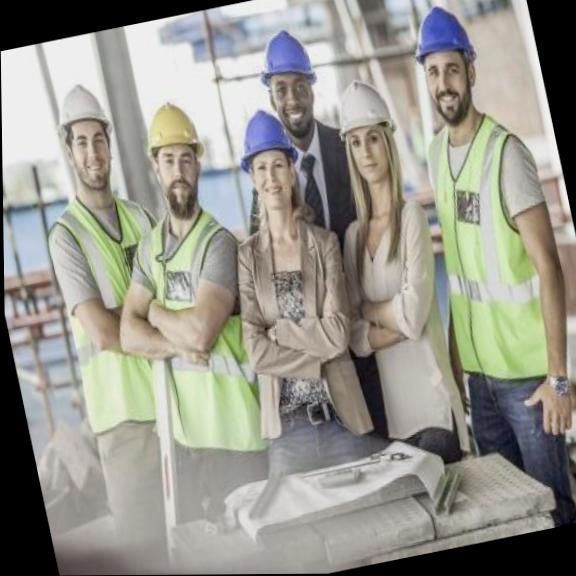no_safety_vest: (236, 212, 365, 439), (341, 195, 459, 426)
safety_vest: (119, 217, 265, 462), (422, 127, 557, 385), (48, 192, 181, 429)
